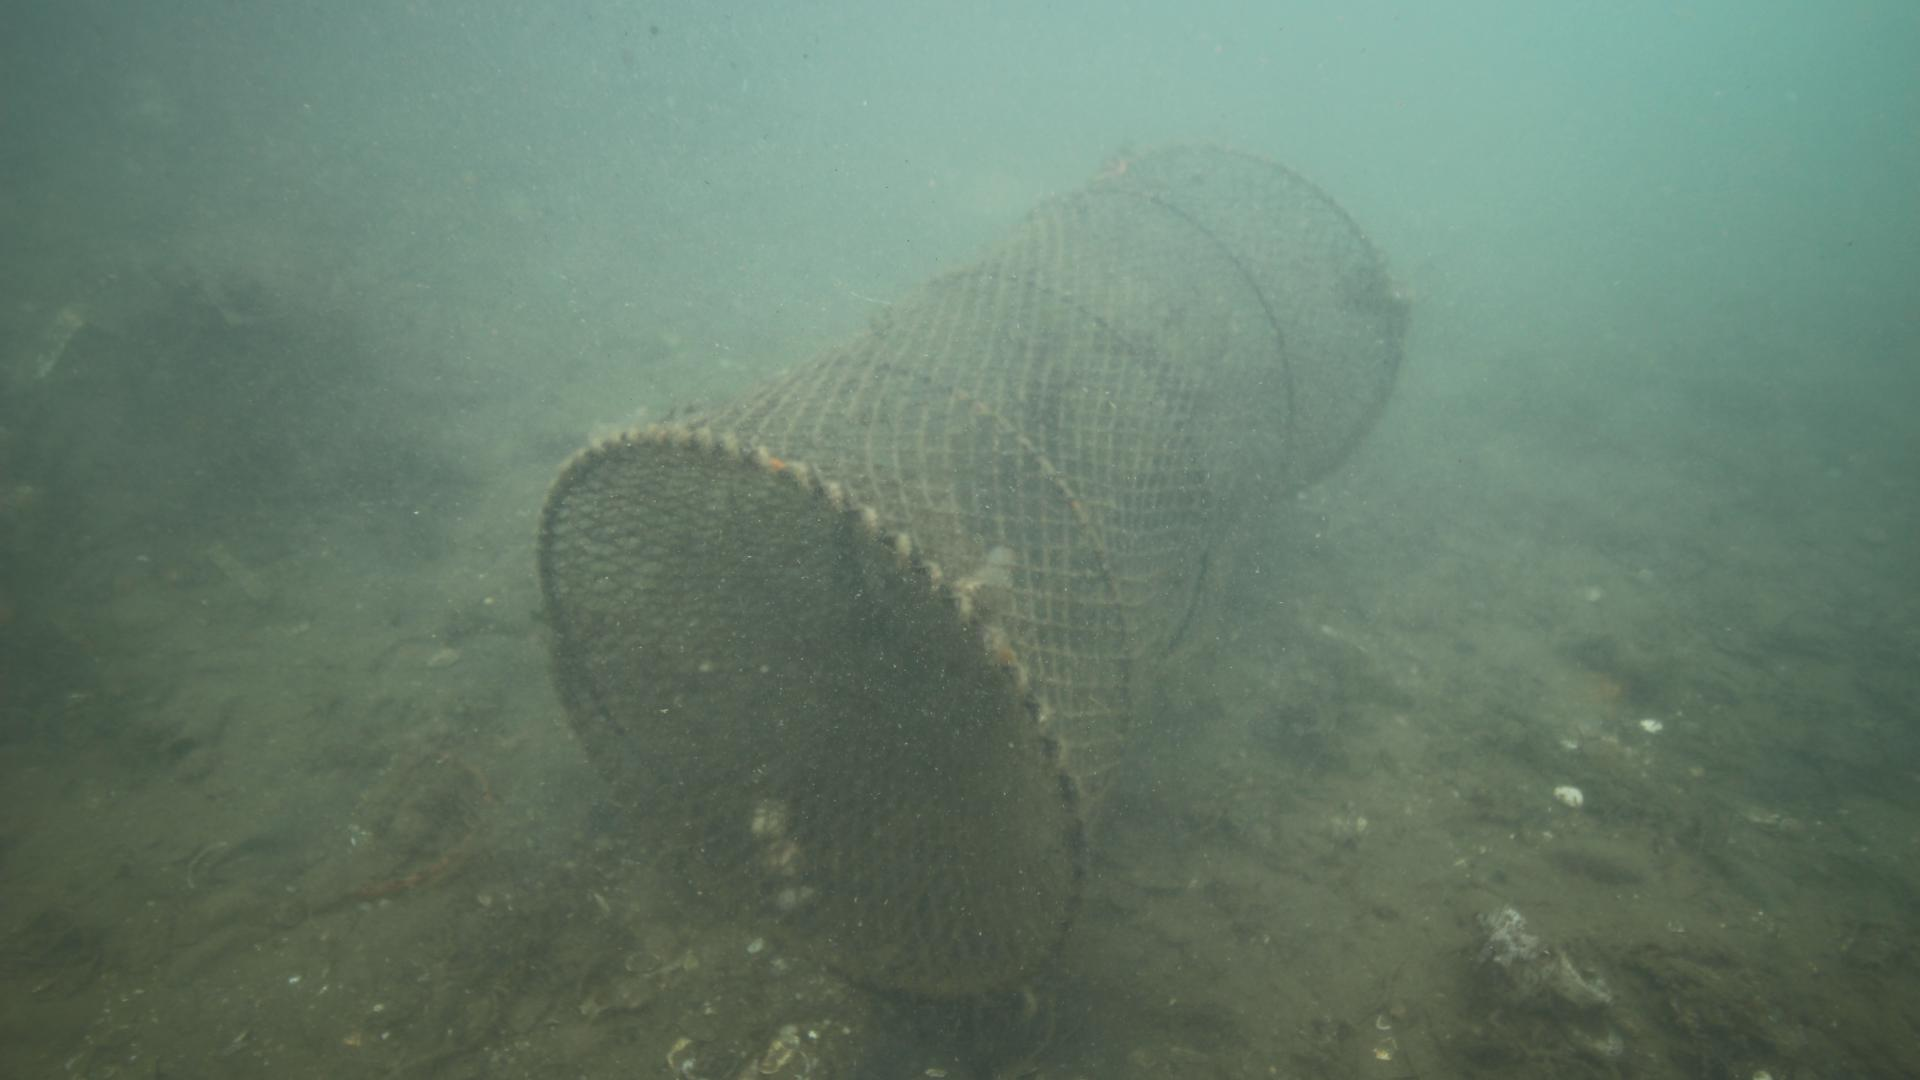spring fish trap: (533, 142, 1403, 996)
